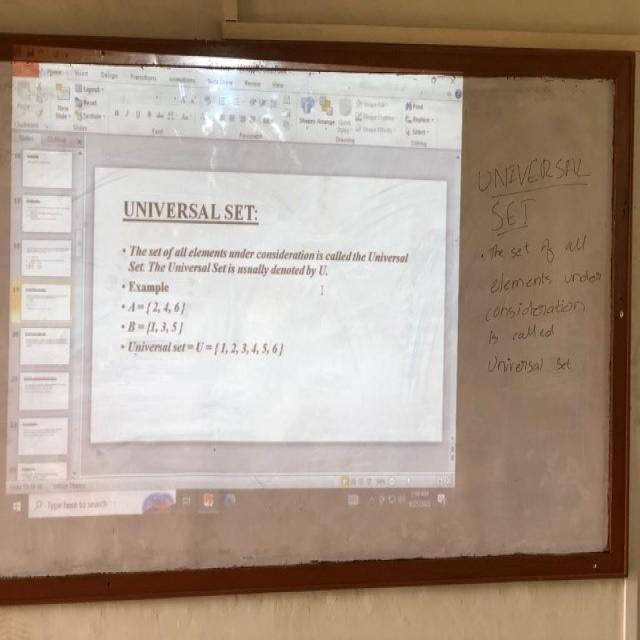Slide: (0, 56, 464, 531)
White-board: (0, 40, 629, 601)
